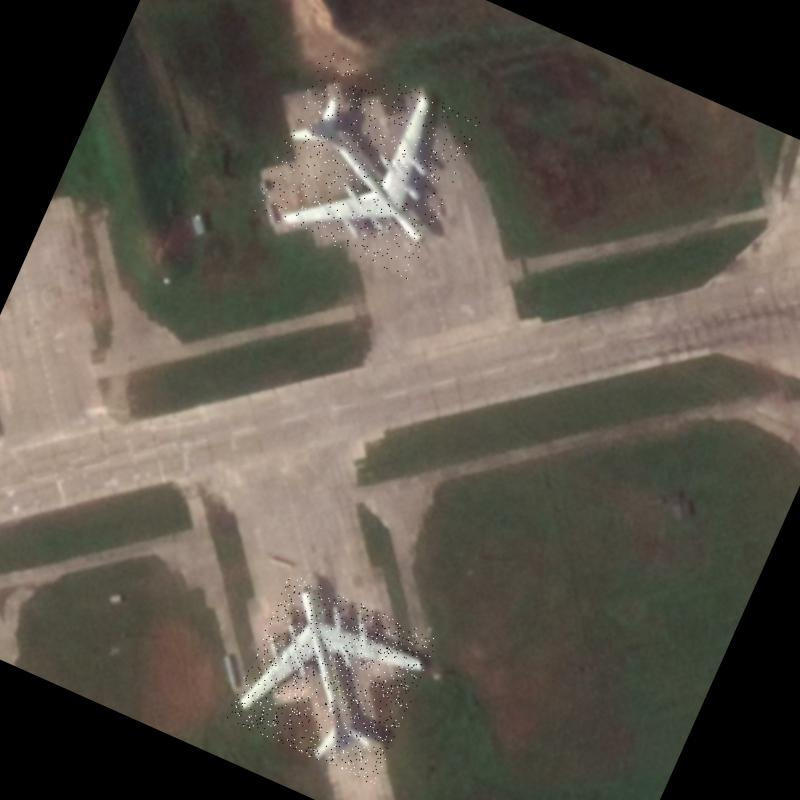A17: (252, 48, 481, 282), (225, 572, 439, 786)
